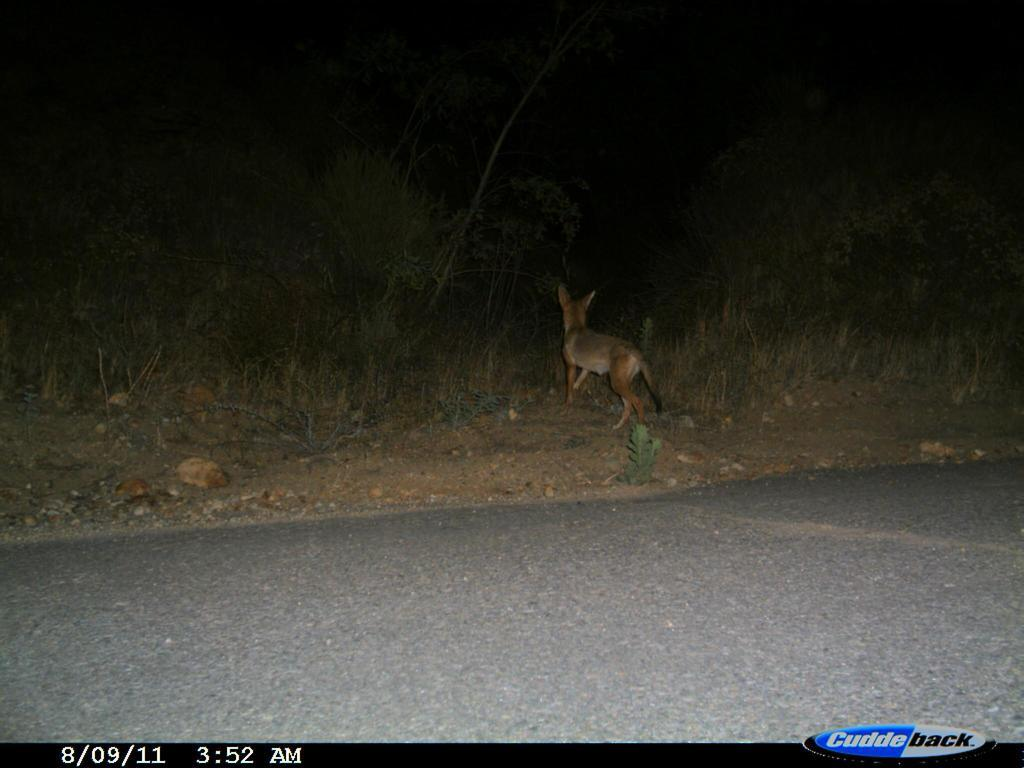coyote: (551, 277, 671, 438)
